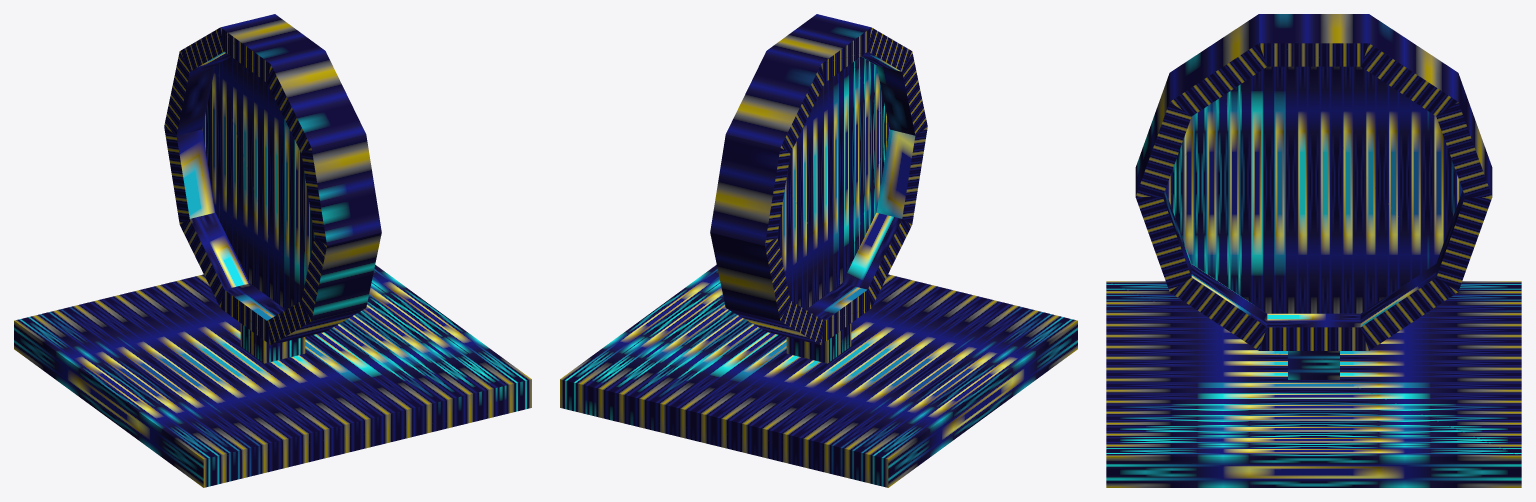
File: temporal_compressor.obj
3 renders of one model, left to right at view 1: azimuth 30°, elevation 25°; view 2: azimuth 150°, elevation 25°; view 3: azimuth 270°, elevation 25°, orthographic. The views are drawn at different scales.
Visible parts, largest first — view 1: Cube.004; view 2: Cube.004; view 3: Cube.004.
Boxes of the visible parts, x1=… form: Cube.004: x1=14, y1=14, x2=531, y2=487; Cube.004: x1=560, y1=14, x2=1077, y2=487; Cube.004: x1=1106, y1=14, x2=1521, y2=487.
Size of the model in its own units: 1 by 0.9882 by 1.
